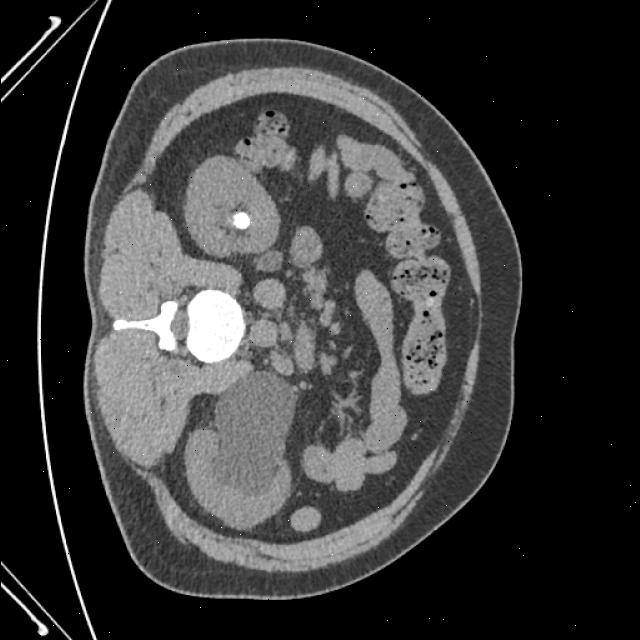kidneystone: (232, 211, 250, 230)
